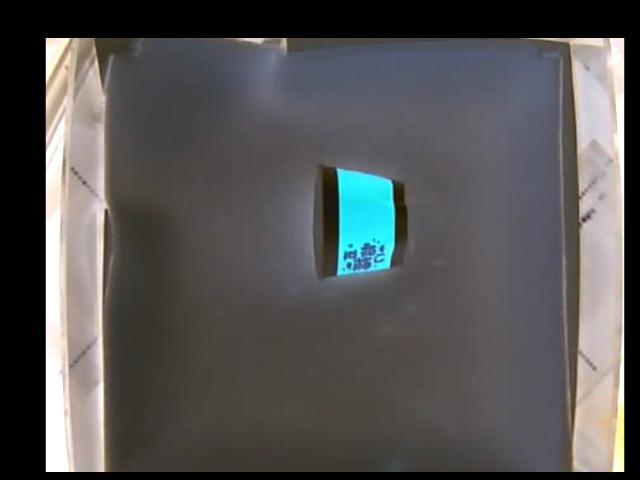Cup: (310, 167, 410, 282)
